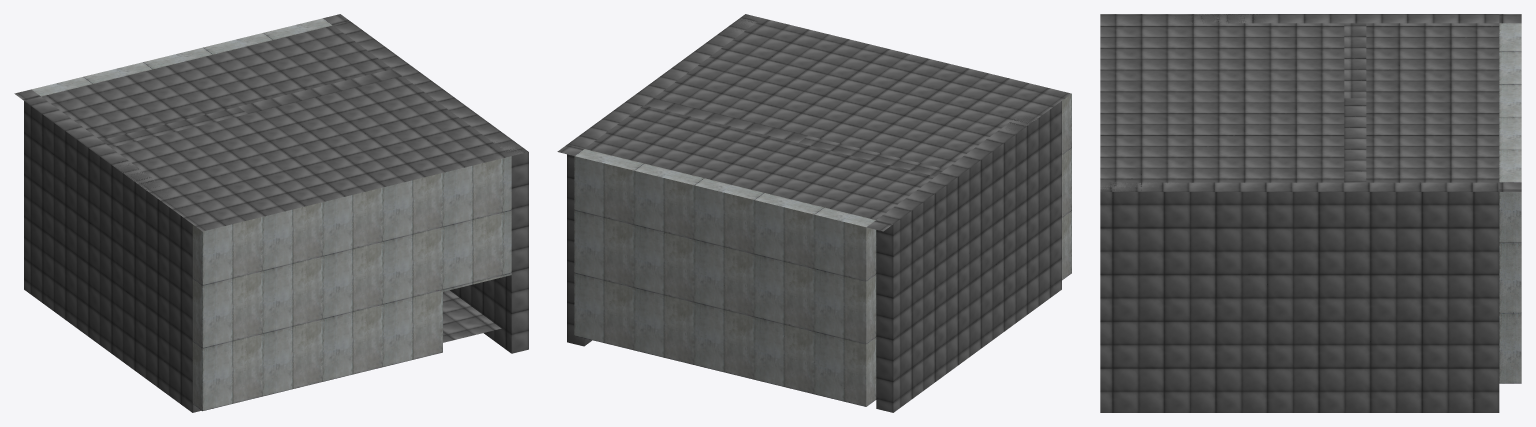
Rendered from Level_14.fbx.
3 views of the same model, side by side, from view 1: azimuth 30°, elevation 25°; view 2: azimuth 150°, elevation 25°; view 3: azimuth 270°, elevation 25° (orthographic). The views are drawn at different scales.
Visible parts, largest first — view 1: NoTeleport.003, Wall.004; view 2: NoTeleport.003, Wall.004; view 3: NoTeleport.003, Wall.004.
Boxes of the visible parts, x1,y1,x2,y2 form: NoTeleport.003: [14, 14, 528, 412]; Wall.004: [31, 18, 511, 411]; NoTeleport.003: [557, 14, 1071, 412]; Wall.004: [574, 94, 1071, 406]; NoTeleport.003: [1100, 14, 1521, 412]; Wall.004: [1499, 23, 1521, 383].
Bounding box in the file's own units: 19 × 19 × 11.
